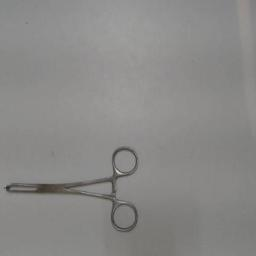Allis Tissue Forceps: (1, 142, 141, 240)
